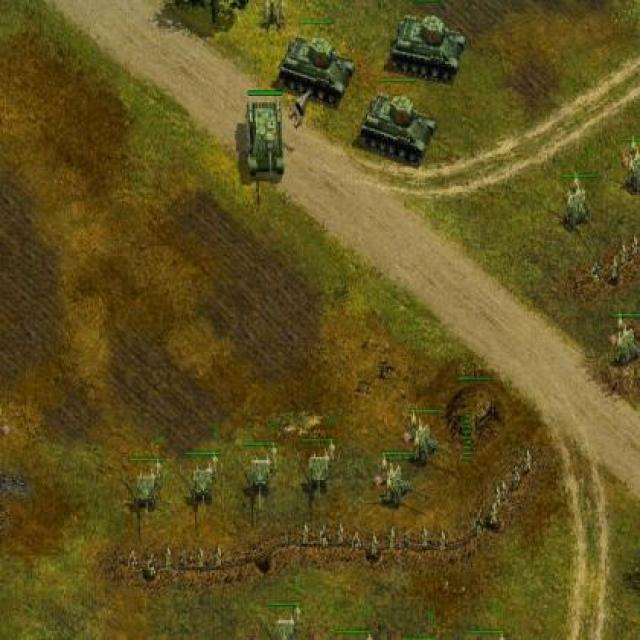tank: (279, 34, 355, 109), (360, 94, 437, 168), (392, 15, 466, 86), (244, 101, 285, 178)
